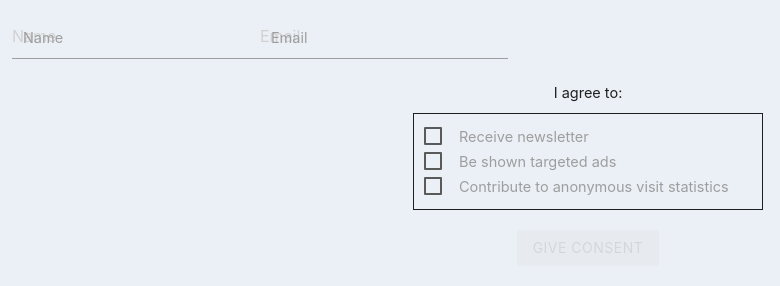
Give Consent › Enable the submit button by populating the form
expect the field with test id "giveConsent-email" is empty: met, box [260,14,508,59]
expect the checkbox with test id "giveConsent-receiveNewsletter" is not checked: met, box [459,128,589,145]
# Update the Name and Email inputs.
Type "Garry" into the field with test id "giveConsent-name" at (136, 37), box [12,14,260,59]
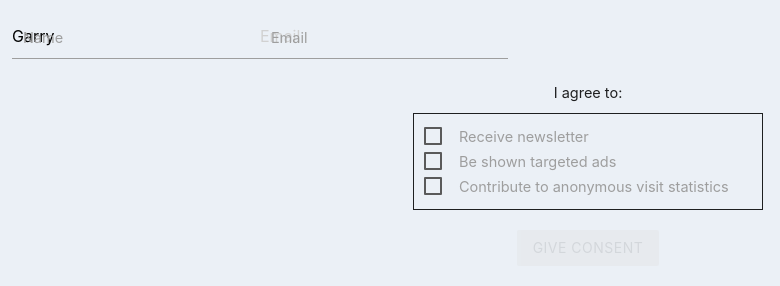
Type "garry@home.com" into the field with test id "giveConsent-email" at (384, 37), box [260,14,508,59]
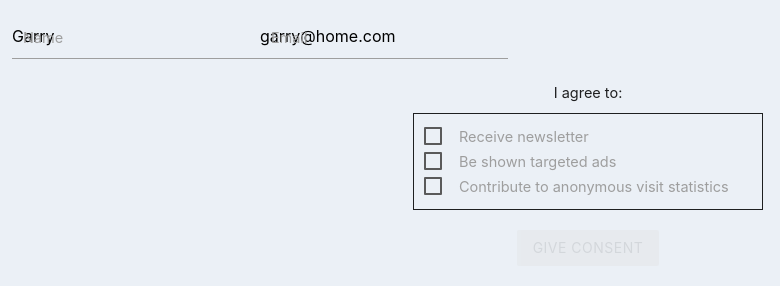
# Check the checkbox.
Click the checkbox with test id "giveConsent-receiveNewsletter" at (524, 137), box [459,128,589,145]
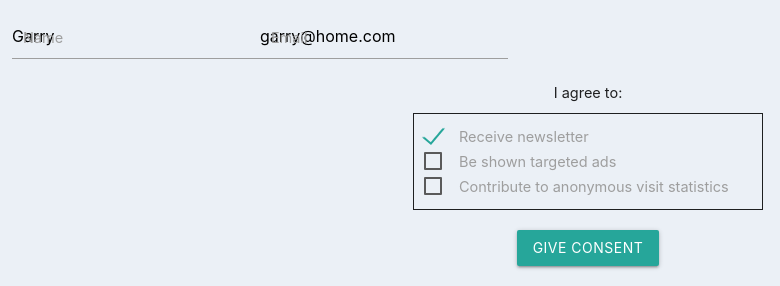
expect the button with test id "giveConsent-submitBtn" is enabled: met, box [517,230,659,266]
